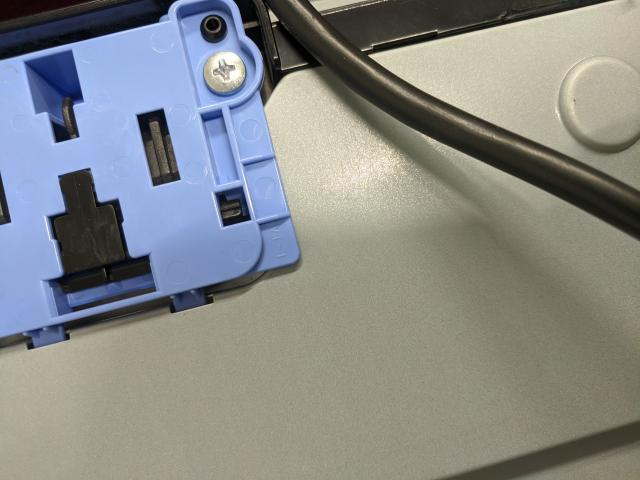CRS: (203, 51, 250, 94)
